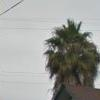Palm tree: (43, 15, 94, 90)
